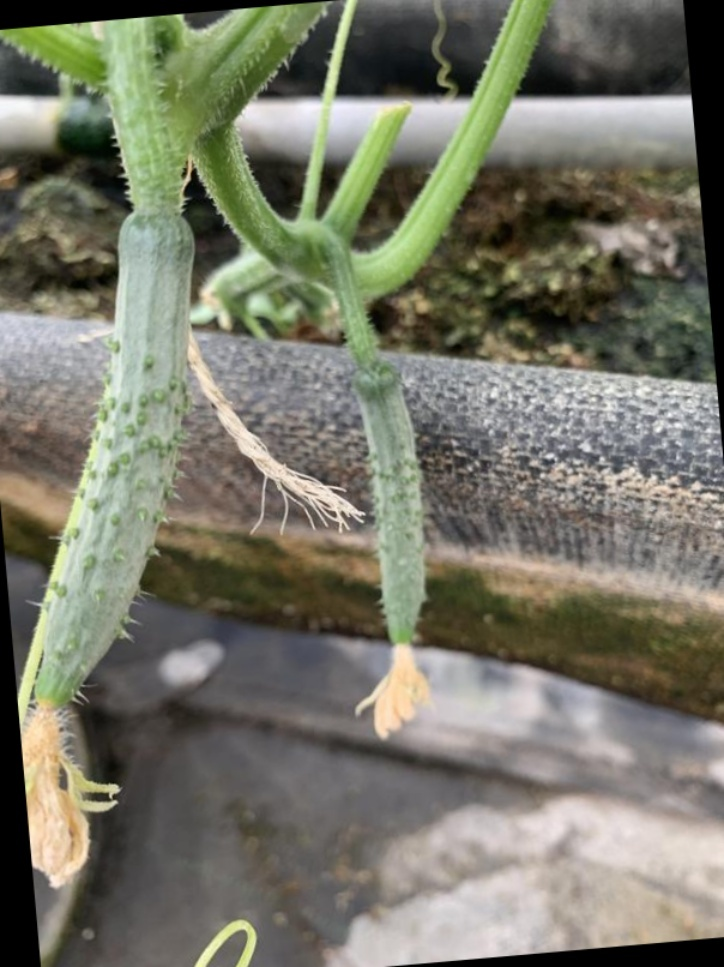bear: (336, 363, 440, 705)
growth: (0, 203, 232, 805)
